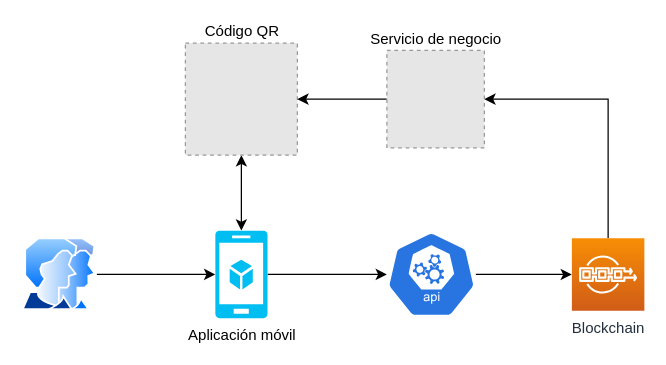
This 666x365 diagram has some shape labels left out. Grey dashed boxes stand in for pictures. Each missing label, with the box of its shape:
API: (386, 224, 476, 323)
Usuario: (21, 237, 96, 310)
